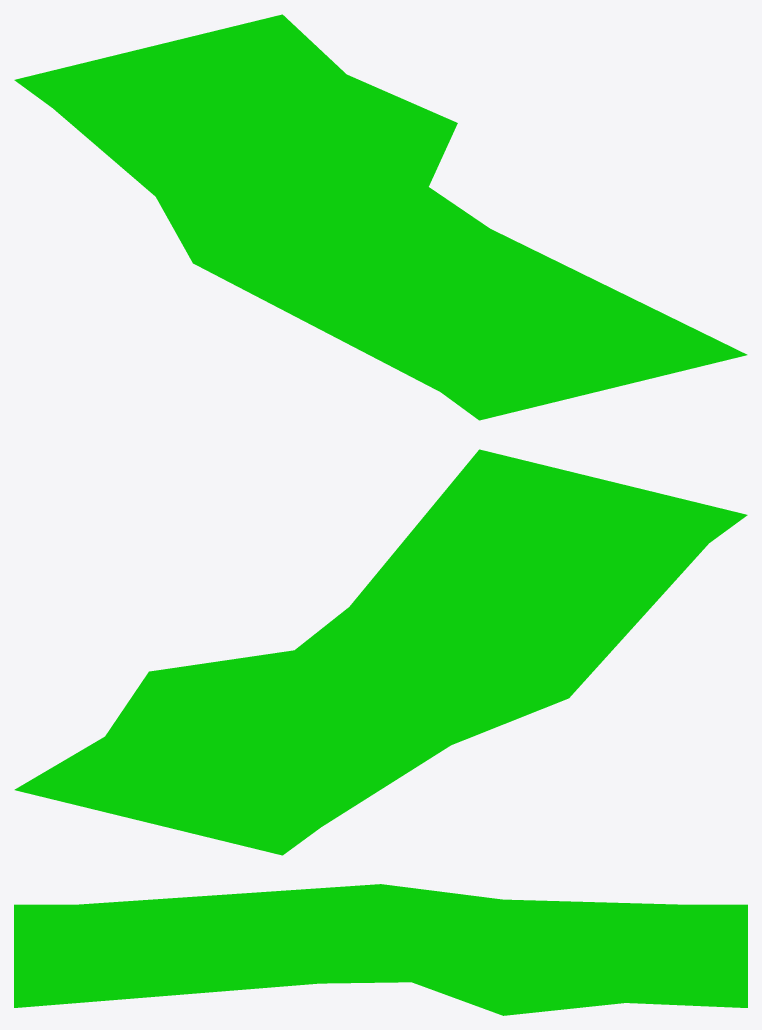
The picture shows the model from 3 angles, top to bottom: view 1: azimuth 30°, elevation 25°; view 2: azimuth 150°, elevation 25°; view 3: azimuth 270°, elevation 25°; orthographic projection. The views are drawn at different scales.
Parts seen in each view (by area): view 1: BG001_1013_00_c01; view 2: BG001_1013_00_c01; view 3: BG001_1013_00_c01.
Boxes of the visible parts, x1=… form: BG001_1013_00_c01: x1=14, y1=14, x2=747, y2=420; BG001_1013_00_c01: x1=14, y1=449, x2=747, y2=855; BG001_1013_00_c01: x1=14, y1=884, x2=747, y2=1015.
Size of the model in its own units: 510 by 0 by 1200.
